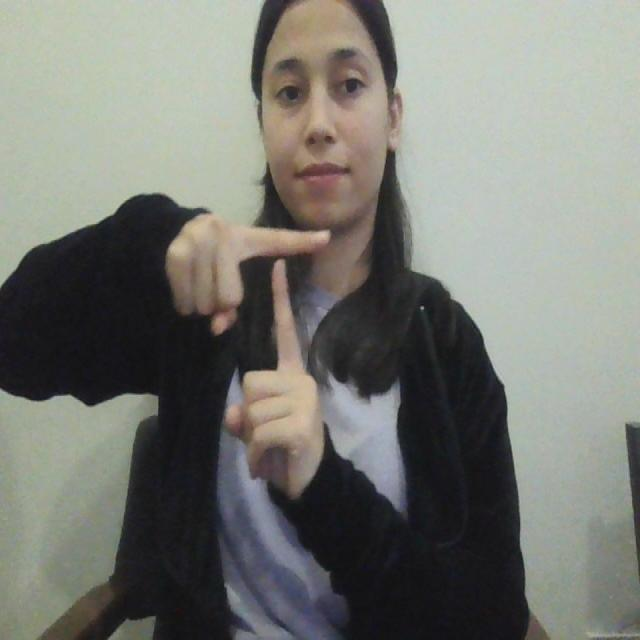Tesekkurler: (236, 219, 332, 389)
